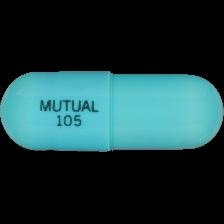50090-0299: (0, 0, 224, 224)
